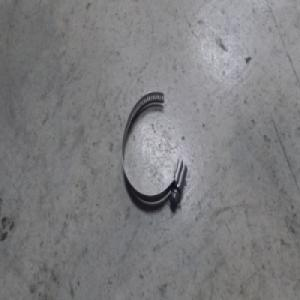AdjustableClamp: (118, 92, 187, 219)
